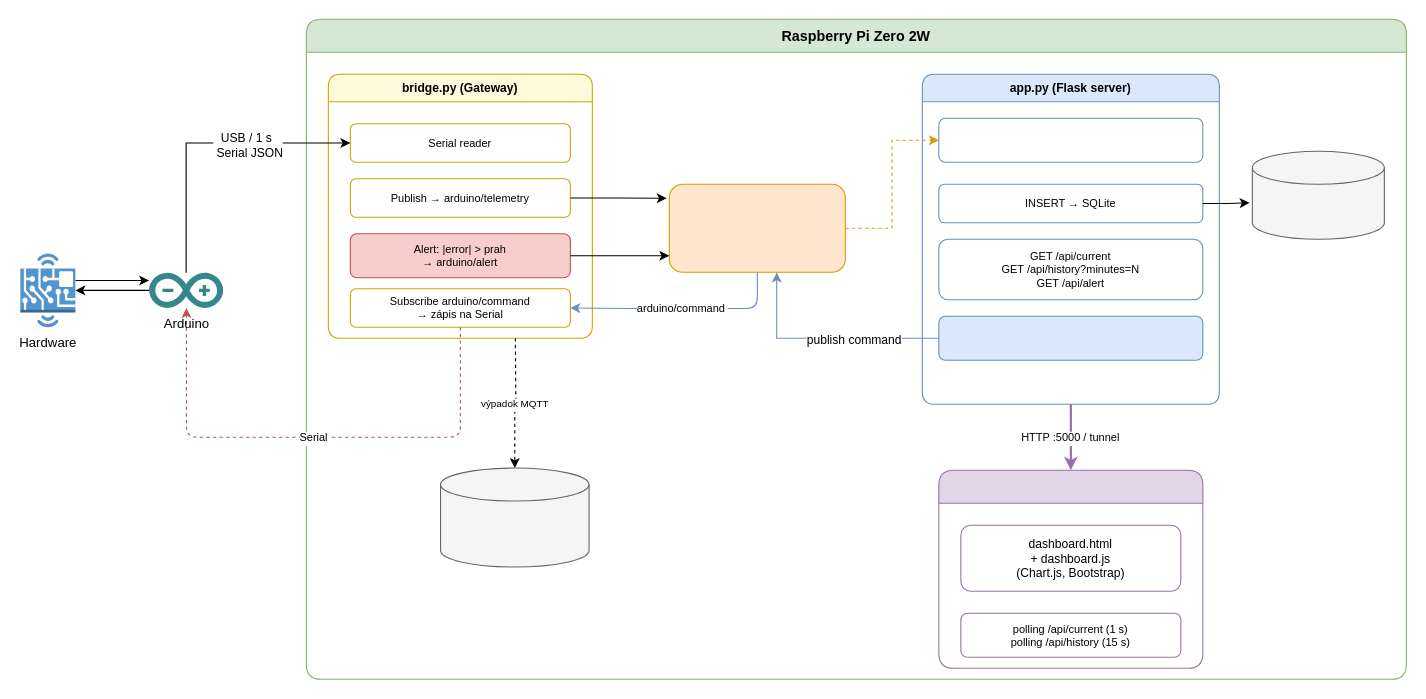
The diagram is 1426 pixels wide and 699 high, and some of its shapes have lost their labels. Each missing label, with the box of its shape:
Browser: (938, 469, 1203, 668)
data/buffer.jsonl (offline buffer): (439, 467, 589, 567)
Mosquitto MQTT Broker 127.0.0.1:1883: (668, 183, 845, 272)
POST /api/command → Publish arduino/command: (938, 315, 1203, 360)
SQLite data.db: (1251, 150, 1384, 239)
Subscribe arduino/telemetry arduino/alert: (938, 117, 1203, 162)
